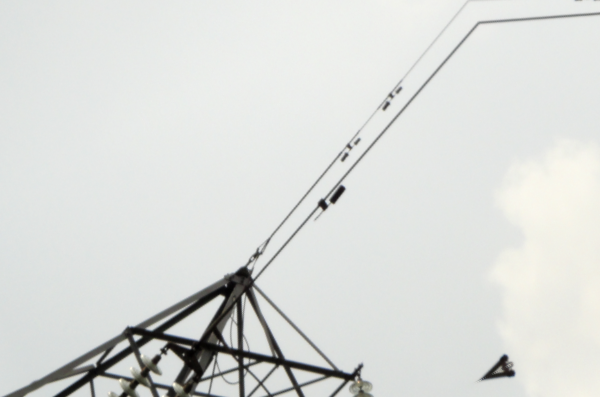damper: (380, 84, 403, 112), (339, 136, 362, 163)
damper_defect: (312, 184, 347, 222)
